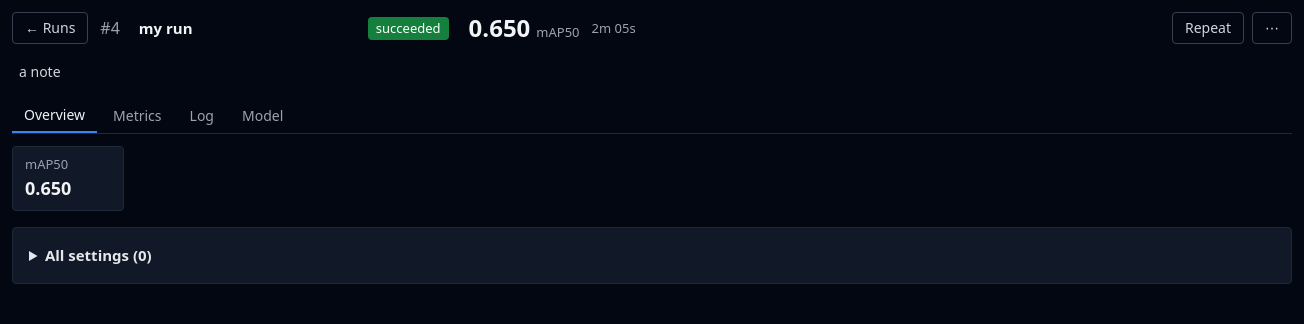
Test: RunDetail › alerts when the save throws
This screenshot has width=1304, height=324.
In the field named "Name": (244, 28) top-left (132, 12), bottom-right (356, 44), type "x"
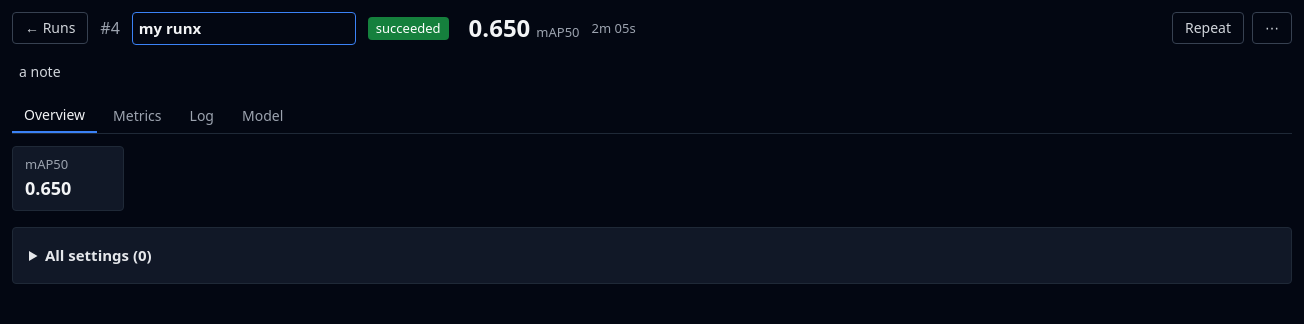
Press Tab
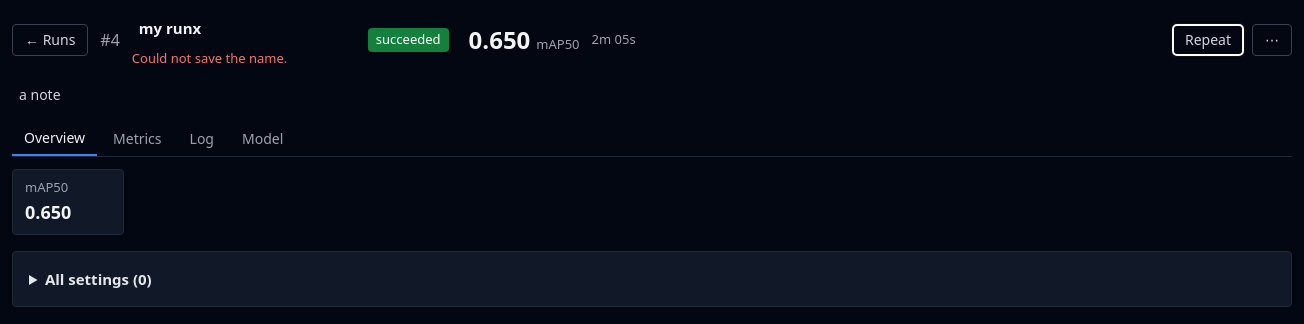
Now the field named "Name" holds "my runx", box top-left (132, 12), bottom-right (356, 44)
Now the message "Could not save the name." is shown, box top-left (132, 48), bottom-right (287, 66)
